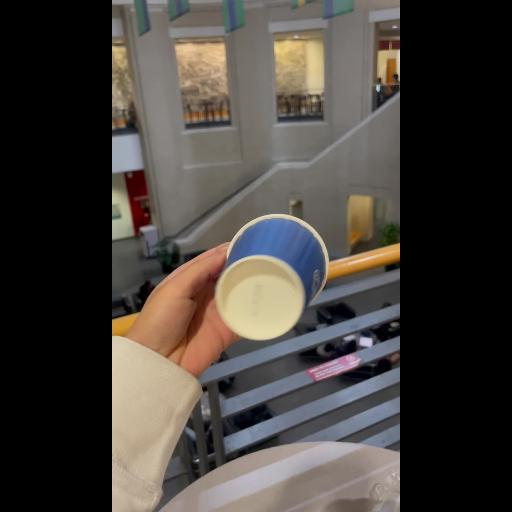lp_paper_cup: (208, 206, 338, 348)
